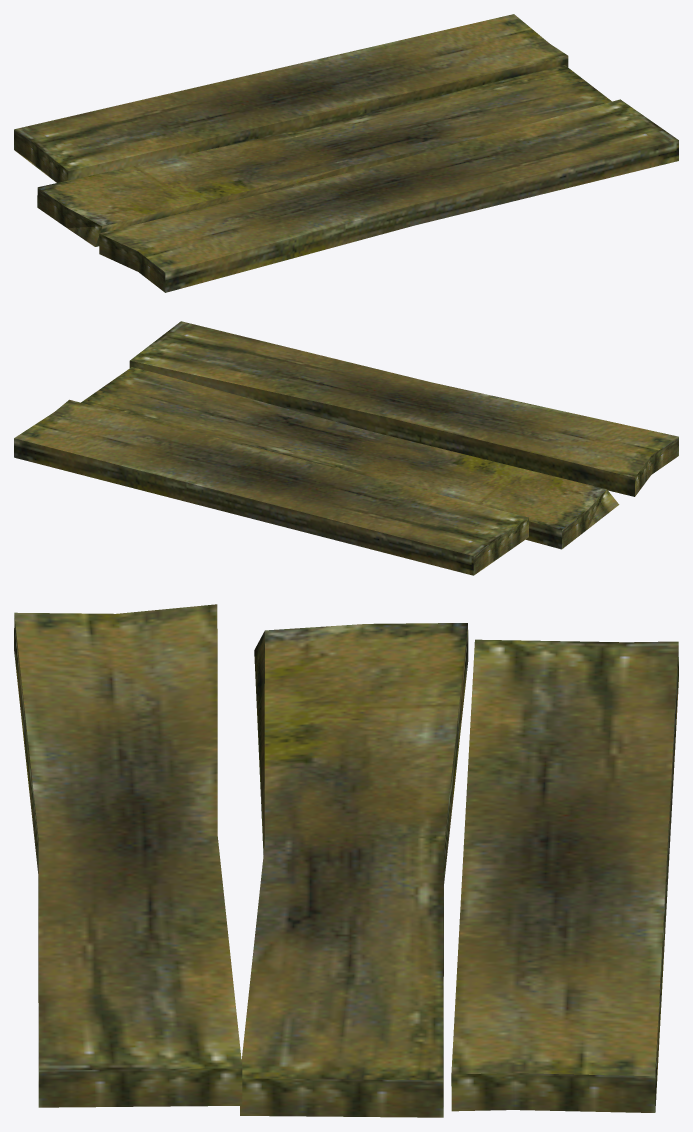
File: 10205_wood04.FBX
3 renders of one model, top to bottom at view 1: azimuth 30°, elevation 25°; view 2: azimuth 150°, elevation 25°; view 3: azimuth 270°, elevation 25°, orthographic. The views are drawn at different scales.
Visible parts, largest first — view 1: 10205_wood04; view 2: 10205_wood04; view 3: 10205_wood04.
Part boxes in pixels (x1,y1,x2,y2): 10205_wood04: (14, 14, 678, 292); 10205_wood04: (14, 321, 678, 575); 10205_wood04: (14, 604, 678, 1117).
Size of the model in its own units: 398 by 19.29 by 237.
